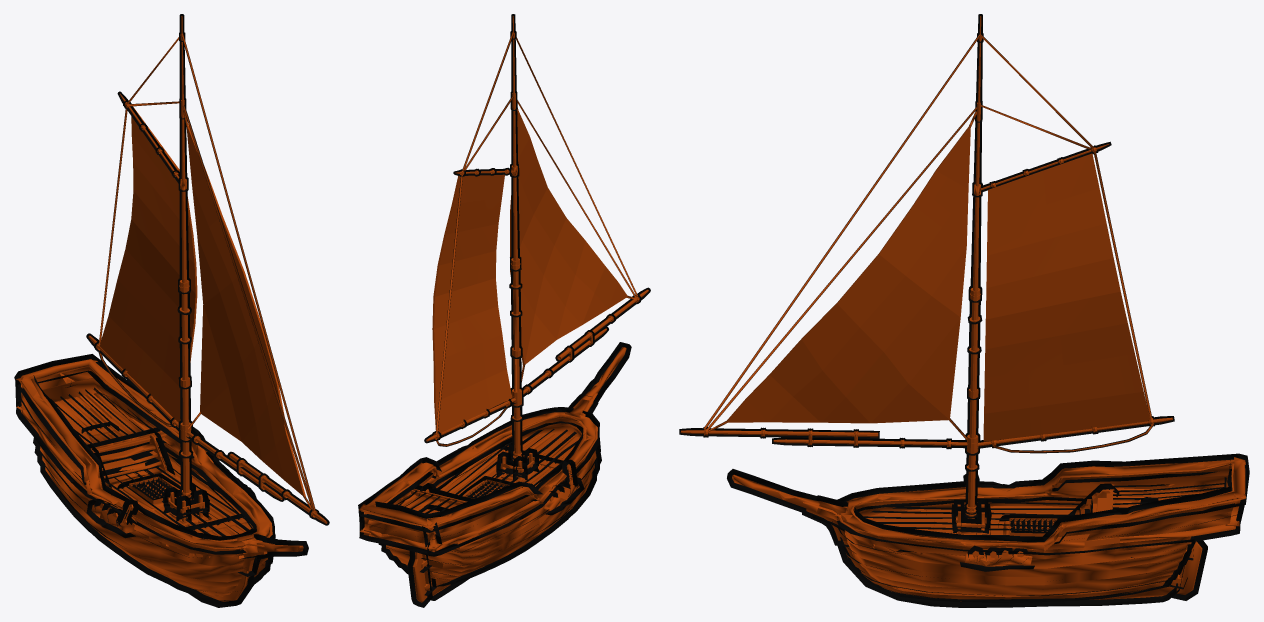
The model's file is ship2.glb.
3 views of the same model, side by side, from view 1: azimuth 30°, elevation 25°; view 2: azimuth 150°, elevation 25°; view 3: azimuth 270°, elevation 25° (orthographic). The views are drawn at different scales.
Visible parts, largest first — view 1: Cube.002, SmallShip_1_Sails, SmallShip_1_Mast; view 2: Cube.002, SmallShip_1_Sails, SmallShip_1_Mast; view 3: SmallShip_1_Sails, Cube.002, SmallShip_1_Mast.
Part boxes in pixels (bbox=[...]): Cube.002: bbox=[14, 354, 308, 607]; SmallShip_1_Sails: bbox=[99, 106, 305, 496]; SmallShip_1_Mast: bbox=[86, 14, 329, 525]; Cube.002: bbox=[358, 342, 631, 607]; SmallShip_1_Sails: bbox=[432, 111, 627, 432]; SmallShip_1_Mast: bbox=[424, 14, 650, 460]; SmallShip_1_Sails: bbox=[726, 124, 1150, 441]; Cube.002: bbox=[727, 453, 1249, 607]; SmallShip_1_Mast: bbox=[679, 14, 1174, 519].
Size of the model in its own units: 1.75 by 6.82 by 5.96.
